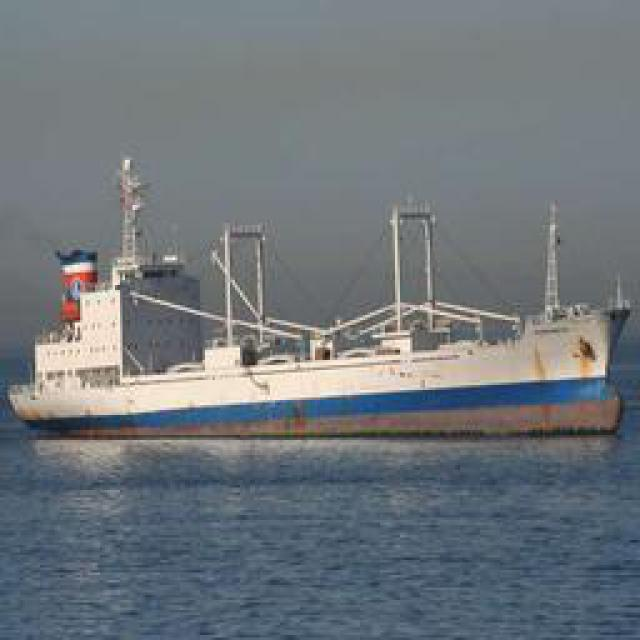Ship: (15, 186, 623, 444)
